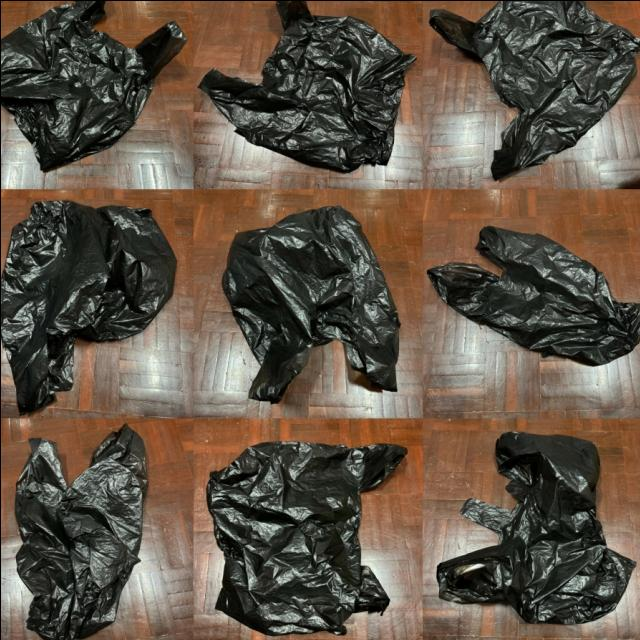plastik: (205, 441, 406, 634), (436, 432, 635, 623), (0, 199, 176, 413), (429, 0, 640, 178), (198, 0, 414, 171), (221, 205, 400, 400), (0, 0, 186, 169), (427, 225, 640, 365), (14, 424, 146, 640)
